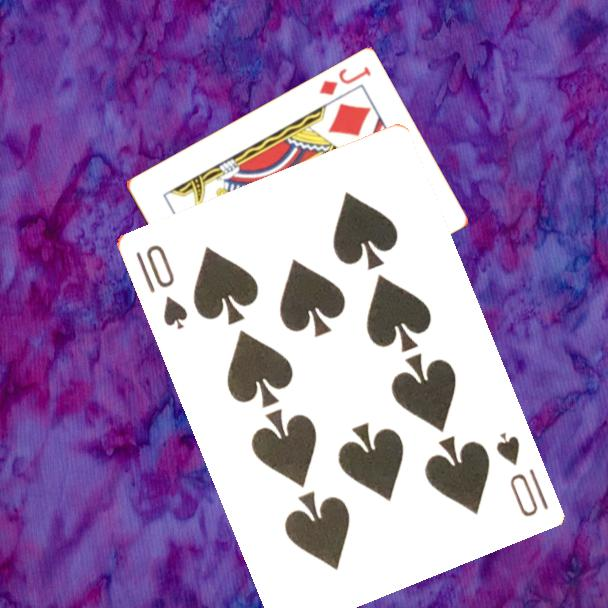d11: (315, 63, 374, 99)
s10: (131, 241, 190, 333), (492, 428, 551, 520)
